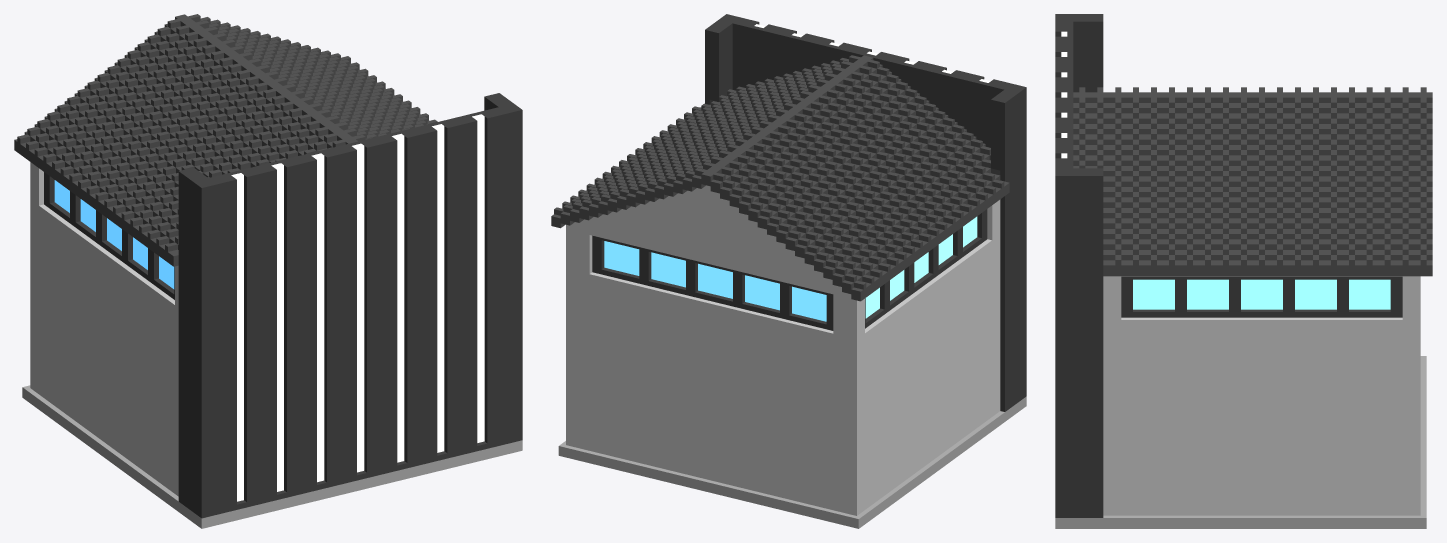
Rendered from typeOne.glb.
3 views of the same model, side by side, from view 1: azimuth 30°, elevation 25°; view 2: azimuth 150°, elevation 25°; view 3: azimuth 270°, elevation 25° (orthographic). The views are drawn at different scales.
Visible parts, largest first — view 1: ObjObject; view 2: ObjObject; view 3: ObjObject.
Part boxes in pixels (x1,y1,x2,y2): ObjObject: [14, 14, 522, 528]; ObjObject: [551, 14, 1026, 528]; ObjObject: [1055, 14, 1432, 528].
Size of the model in its own units: 6.6 by 6.5 by 6.3.
Materials: 3 (1 with a texture image).
